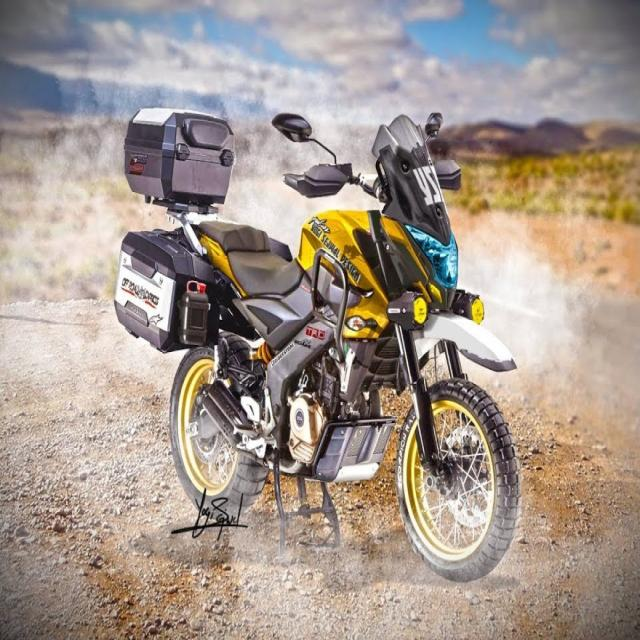motorcycle: (115, 108, 520, 581)
